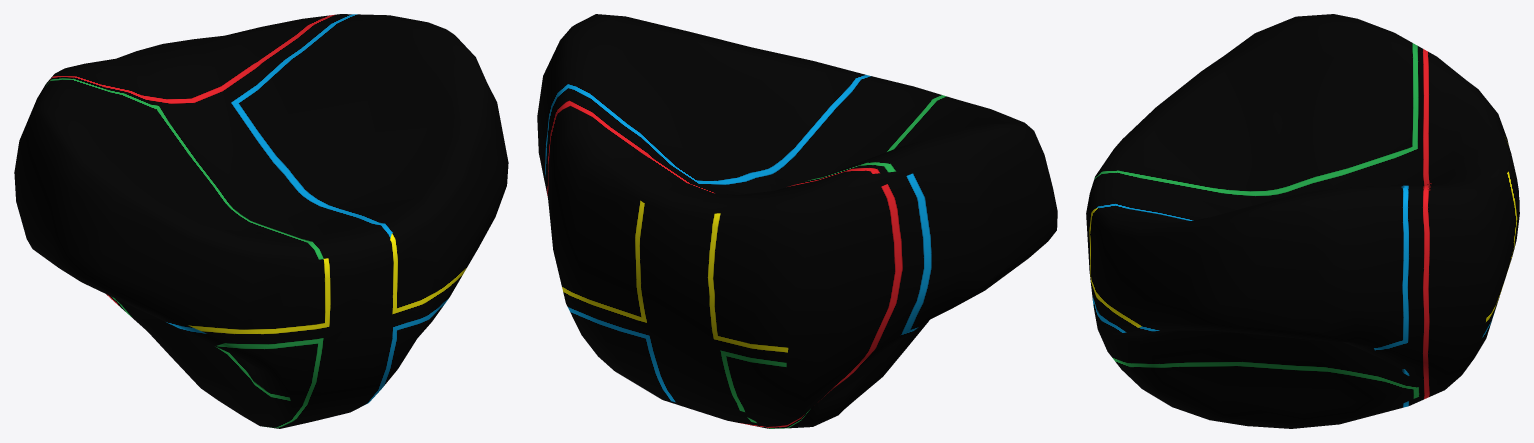
Rendered from hips.obj.
3 renders of one model, left to right at view 1: azimuth 30°, elevation 25°; view 2: azimuth 150°, elevation 25°; view 3: azimuth 270°, elevation 25°, orthographic. The views are drawn at different scales.
Visible parts, largest first — view 1: Alpha_Surface_Alpha_SurfaceMesh; view 2: Alpha_Surface_Alpha_SurfaceMesh; view 3: Alpha_Surface_Alpha_SurfaceMesh.
Part boxes in pixels (x1=…): Alpha_Surface_Alpha_SurfaceMesh: x1=14, y1=14, x2=508, y2=428; Alpha_Surface_Alpha_SurfaceMesh: x1=537, y1=14, x2=1057, y2=428; Alpha_Surface_Alpha_SurfaceMesh: x1=1086, y1=14, x2=1519, y2=428.
Size of the model in its own units: 0.3384 by 0.2417 by 0.3015.
